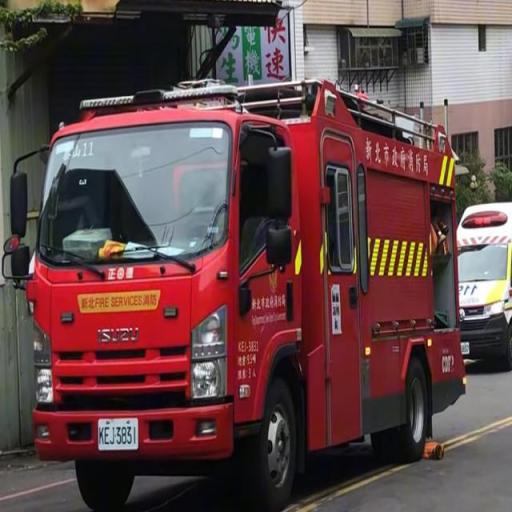fire truck: (2, 51, 468, 510)
